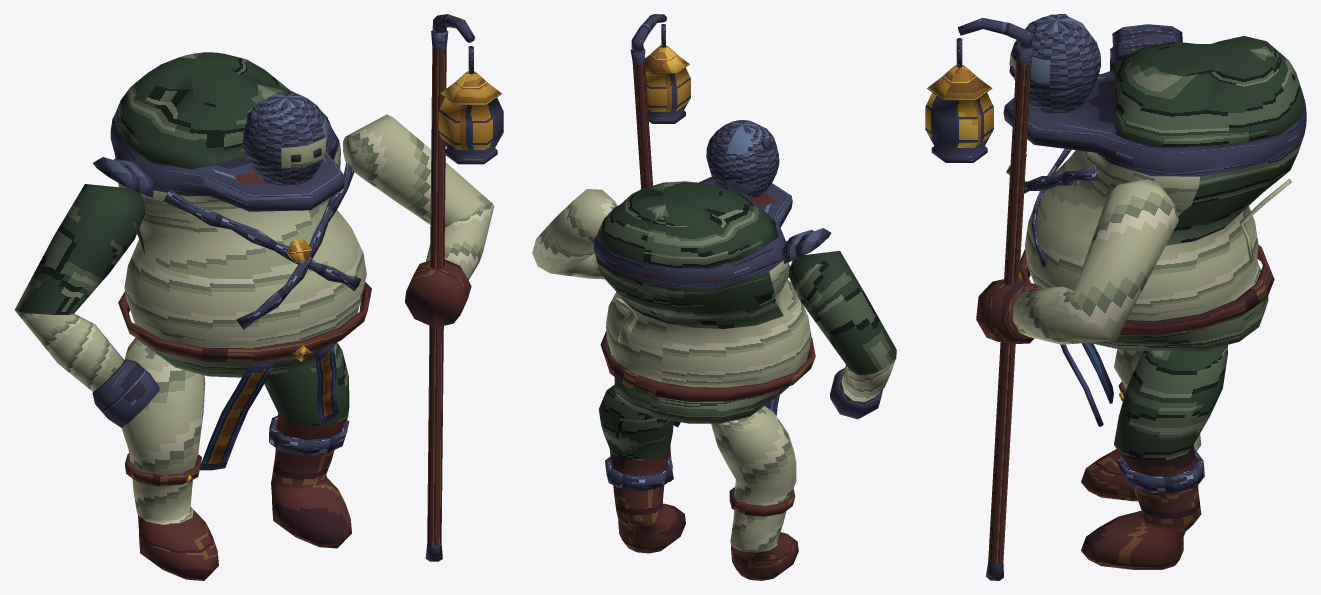
Rendered from gruftwaechter_G2.glb.
3 renders of one model, left to right at view 1: azimuth 30°, elevation 25°; view 2: azimuth 150°, elevation 25°; view 3: azimuth 270°, elevation 25°, orthographic. The views are drawn at different scales.
Visible parts, largest first — view 1: torso, arm_l, gear, leg_l, arm_r, pole, leg_r, head; view 2: torso, arm_l, leg_l, leg_r, gear, pole, arm_r, head; view 3: torso, leg_r, arm_r, pole, gear, head, leg_l, arm_l.
Boxes of the visible parts, x1=… form: torso: x1=110, y1=52, x2=366, y2=377; arm_l: x1=14, y1=157, x2=159, y2=427; gear: x1=118, y1=110, x2=371, y2=486; leg_l: x1=121, y1=337, x2=218, y2=580; arm_r: x1=343, y1=114, x2=494, y2=327; pole: x1=425, y1=14, x2=503, y2=561; leg_r: x1=264, y1=342, x2=351, y2=548; head: x1=243, y1=92, x2=328, y2=185; torso: x1=594, y1=176, x2=811, y2=423; arm_l: x1=782, y1=228, x2=896, y2=419; leg_l: x1=711, y1=406, x2=798, y2=580; leg_r: x1=598, y1=385, x2=685, y2=553; gear: x1=600, y1=138, x2=815, y2=516; pole: x1=630, y1=14, x2=690, y2=481; arm_r: x1=532, y1=189, x2=617, y2=279; head: x1=706, y1=120, x2=779, y2=198; torso: x1=1003, y1=36, x2=1306, y2=350; leg_r: x1=1081, y1=345, x2=1227, y2=569; arm_r: x1=976, y1=178, x2=1178, y2=344; pole: x1=925, y1=18, x2=1033, y2=580; gear: x1=1006, y1=14, x2=1291, y2=492; head: x1=1010, y1=14, x2=1100, y2=112; leg_l: x1=1081, y1=349, x2=1201, y2=501; arm_l: x1=1110, y1=24, x2=1182, y2=70.
Bounding box in the file's own units: 2.16 × 2.52 × 1.5.
1 material, 1 textured.
